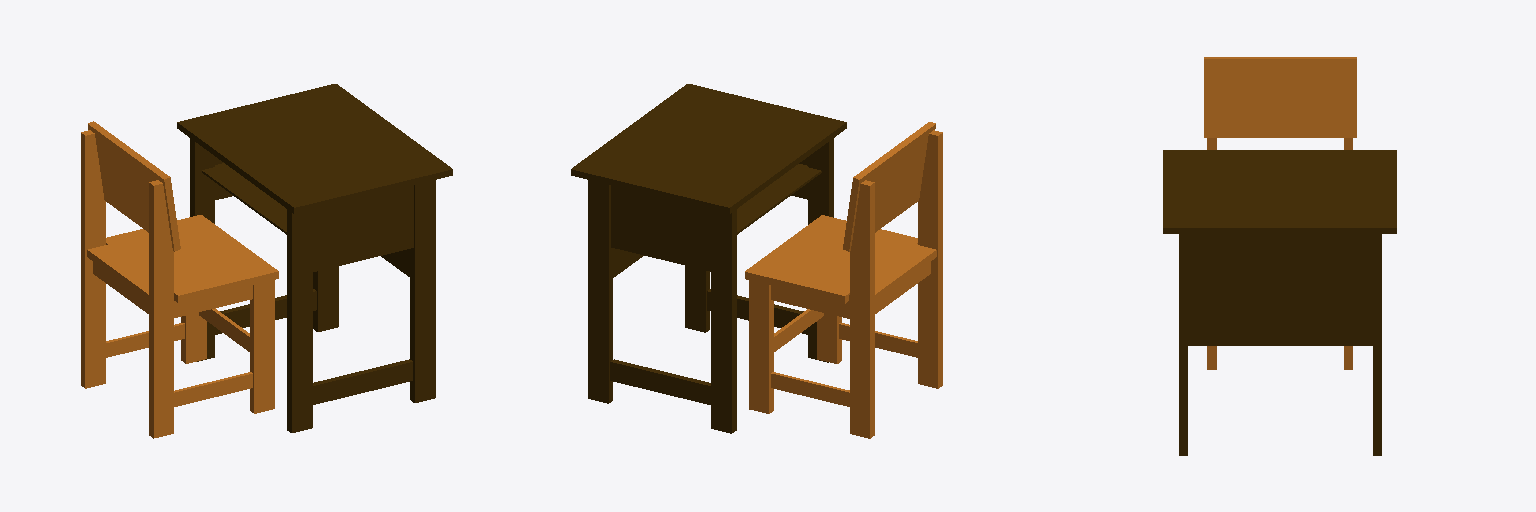
Rendered from school_desk.obj.
3 views of the same model, side by side, from view 1: azimuth 30°, elevation 25°; view 2: azimuth 150°, elevation 25°; view 3: azimuth 270°, elevation 25° (orthographic).
Visible parts, largest first — view 1: Meja.001_Cube.001, Kursi_Cube.002; view 2: Meja.001_Cube.001, Kursi_Cube.002; view 3: Meja.001_Cube.001, Kursi_Cube.002.
Part boxes in pixels (bbox=[...]): Meja.001_Cube.001: bbox=[177, 84, 452, 432]; Kursi_Cube.002: bbox=[81, 121, 278, 438]; Meja.001_Cube.001: bbox=[571, 84, 846, 433]; Kursi_Cube.002: bbox=[745, 122, 942, 438]; Meja.001_Cube.001: bbox=[1163, 150, 1396, 455]; Kursi_Cube.002: bbox=[1204, 57, 1356, 369].
Size of the model in its own units: 0.9577 by 0.9029 by 0.7009.